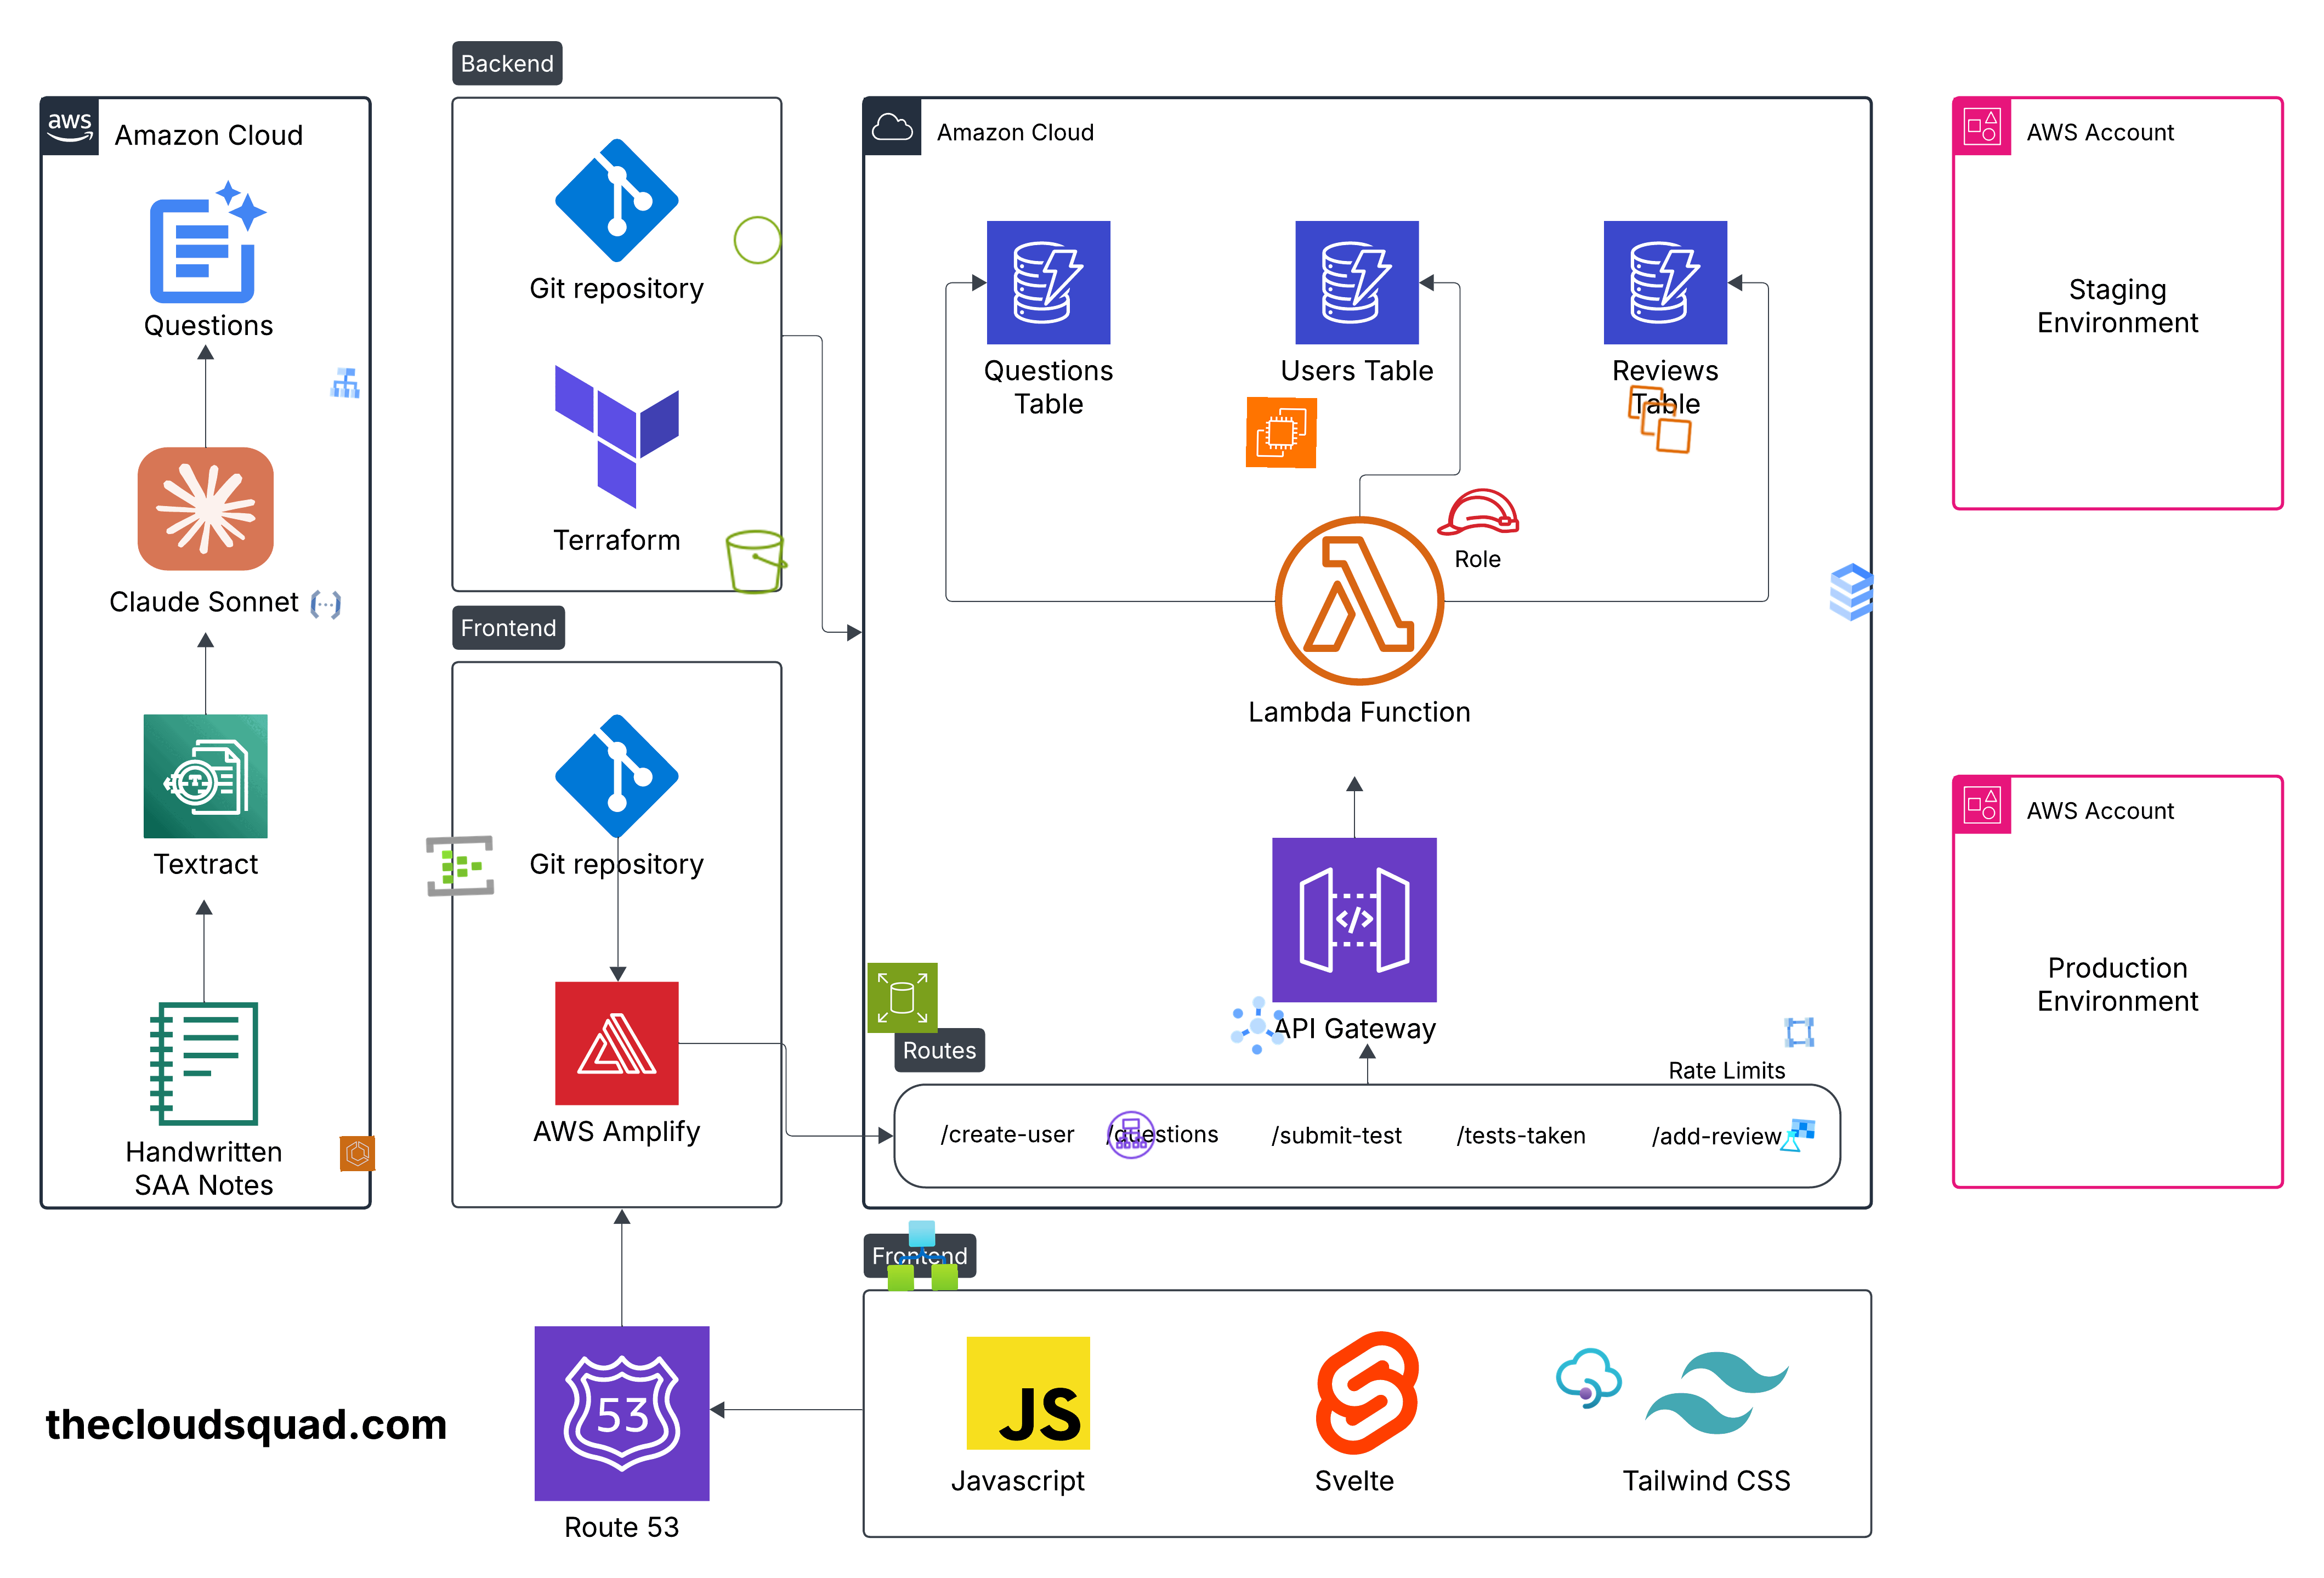aws_amazon_ec2: (1245, 396, 1317, 468)
aws_amazon_elastic_block_store: (866, 962, 938, 1034)
aws_amazon_elastic_container_service: (340, 1136, 375, 1171)
aws_ec2_instances: (1622, 382, 1697, 458)
aws_elastic_load_balancing_application_load_balancer: (1104, 1108, 1158, 1162)
aws_simple_storage_service_object: (731, 213, 785, 268)
aws_simple_storage_service_s3_standard: (722, 527, 792, 597)
azure_api_management_services: (1551, 1342, 1627, 1416)
azure_event_hubs: (423, 830, 496, 902)
azure_logic_apps: (886, 1219, 958, 1291)
azure_machine_learning_studio_workspaces: (1778, 1117, 1817, 1155)
gcp_cloud_functions: (306, 586, 345, 623)
gcp_cloud_load_balancing: (326, 363, 364, 402)
gcp_cloud_sql: (1815, 555, 1889, 629)
gcp_pubsub: (1222, 988, 1294, 1062)
gcp_virtual_private_cloud: (1782, 1014, 1817, 1051)
